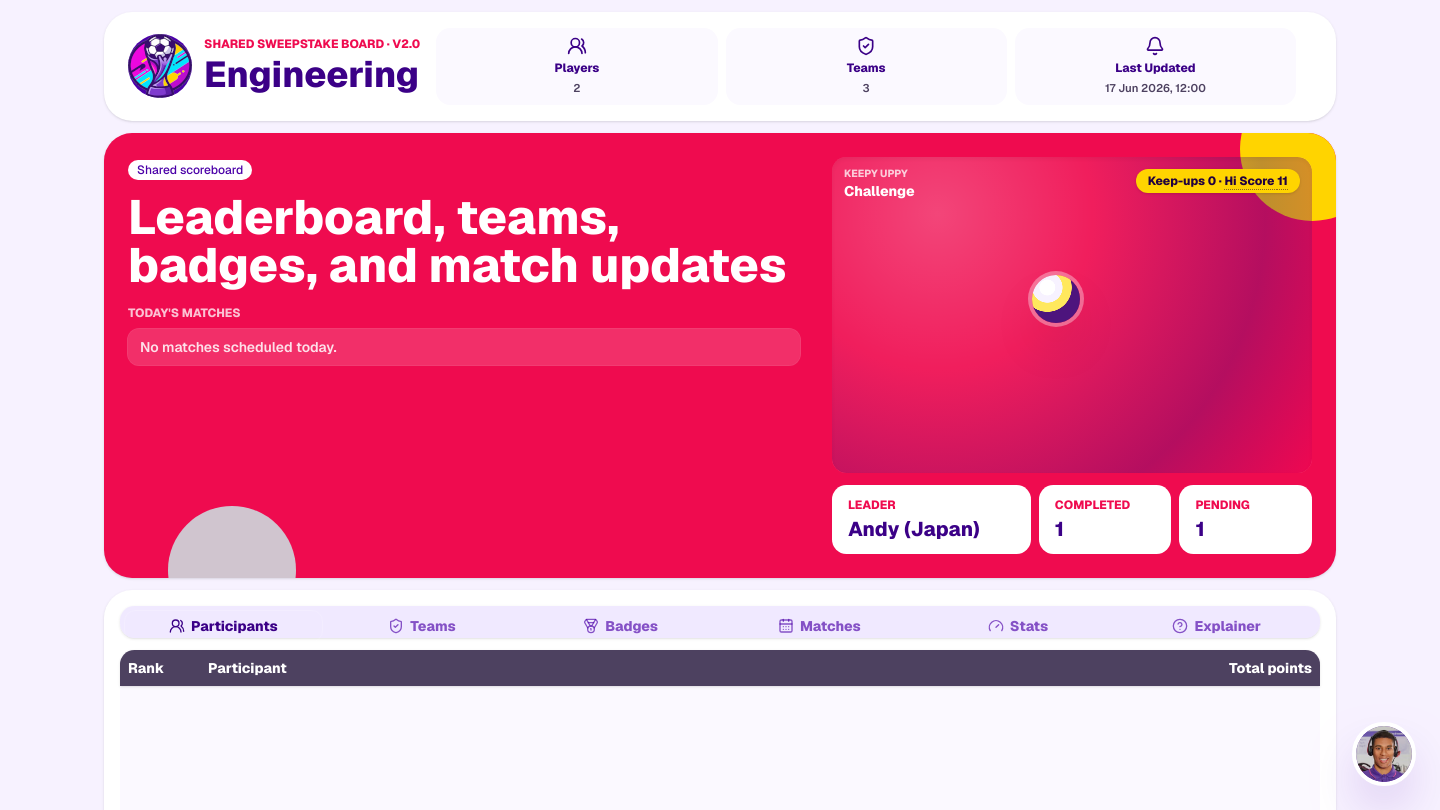
Scenario: AlternativeBoard › shows the top 10 when a completed streak misses the table
Press the mouse on the button named "Keep Andy's ball up" at (1056, 299), box x1=1032 y1=275 x2=1080 y2=323
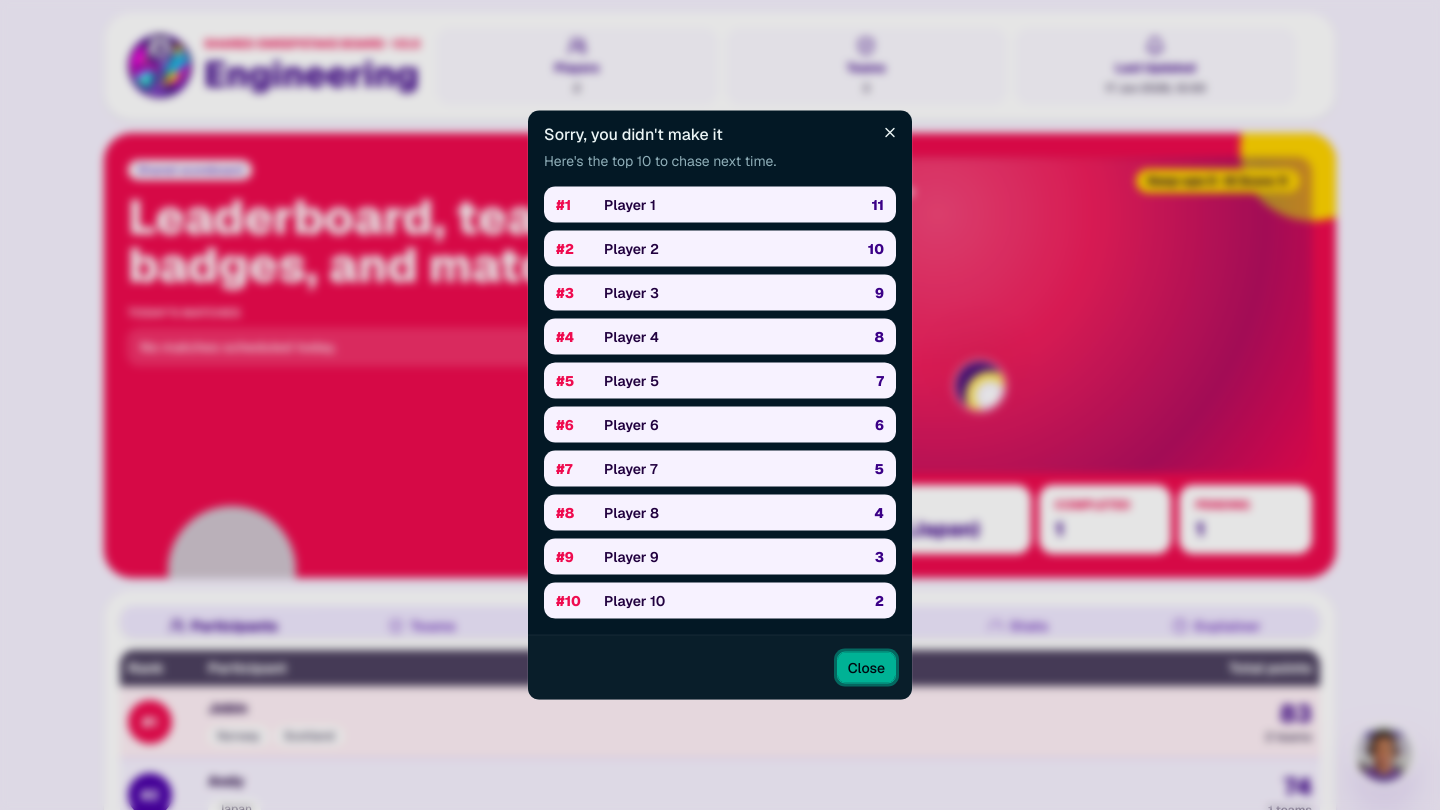
Result: the dialog "Sorry, you didn't make it" is shown at x1=528 y1=110 x2=912 y2=700
Result: the text "Player 10" is shown at x1=604 y1=592 x2=665 y2=610
Result: the text "2" is shown at x1=875 y1=592 x2=884 y2=610
